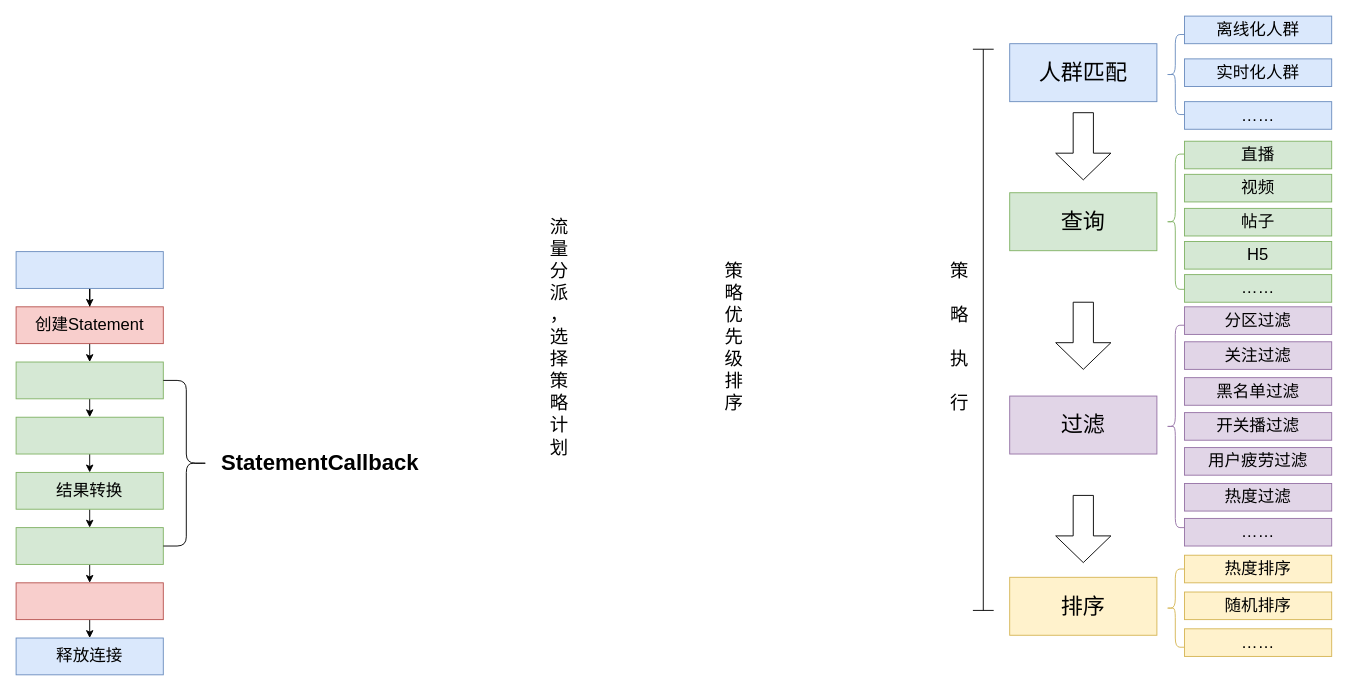
Image size: 1348x691. Some labels were removed from this diagram. Each missing label, with the box of its shape:
关闭Statement: (15, 582, 163, 620)
关闭结果: (15, 527, 163, 564)
建立连接: (15, 251, 163, 288)
提交查询: (15, 361, 163, 399)
获取结果: (15, 416, 163, 454)
